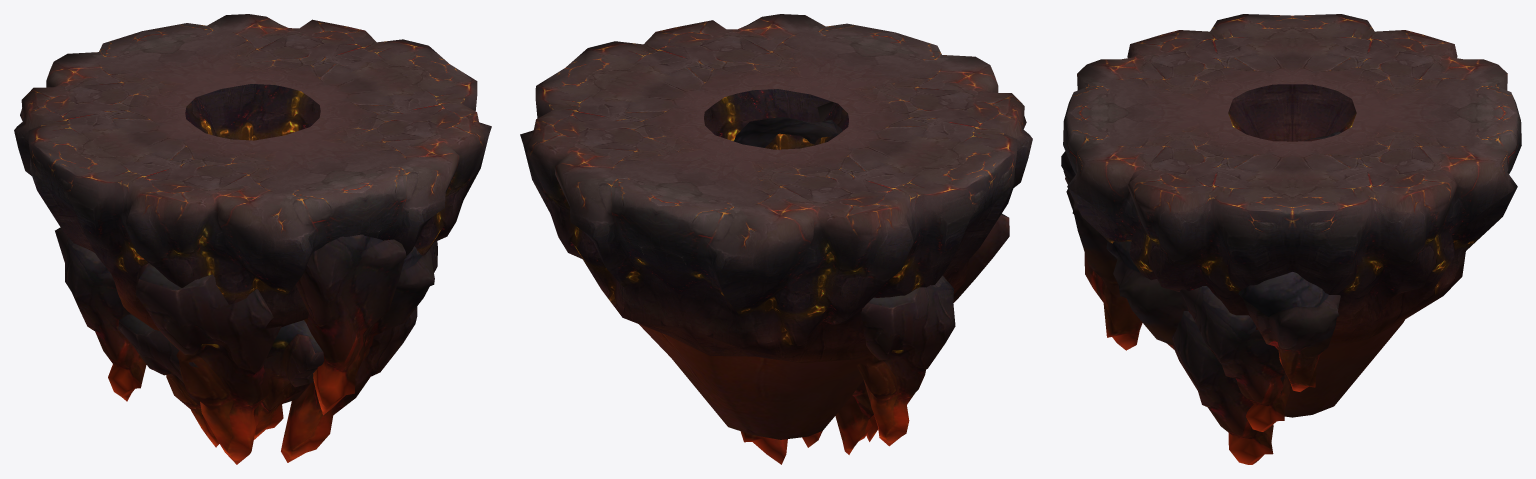
The model's file is Dxlm_db.FBX.
3 views of the same model, side by side, from view 1: azimuth 30°, elevation 25°; view 2: azimuth 150°, elevation 25°; view 3: azimuth 270°, elevation 25° (orthographic). The views are drawn at different scales.
Visible parts, largest first — view 1: Dxlm_db; view 2: Dxlm_db; view 3: Dxlm_db.
Boxes of the visible parts, <box> form: Dxlm_db: <box>14,14,491,464</box>; Dxlm_db: <box>520,14,1032,464</box>; Dxlm_db: <box>1061,14,1521,464</box>.
Bounding box in the file's own units: 856 × 838 × 691.
1 material, 1 textured.
